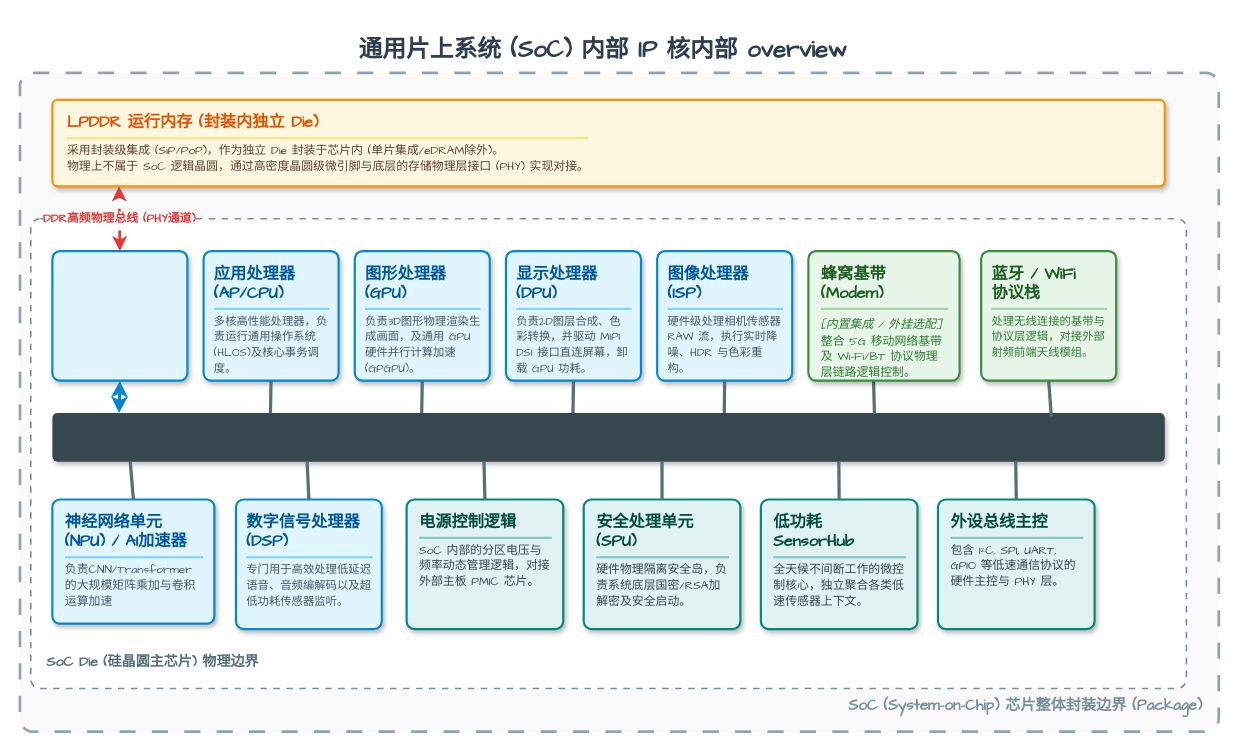
Some shapes in this 1239 by 752 pixel diagram are drawn without their labels. The centre of each missing label's shape, as x and y in pixels:
内存控制器 (DMC+PHY) 作为 AXI Slave 接收片内请求，转换为 DDR 物理时序协议对接外部内存。: point (120, 317)
片 内 互 联 总 线 (System Interconnect Bus): point (609, 438)
